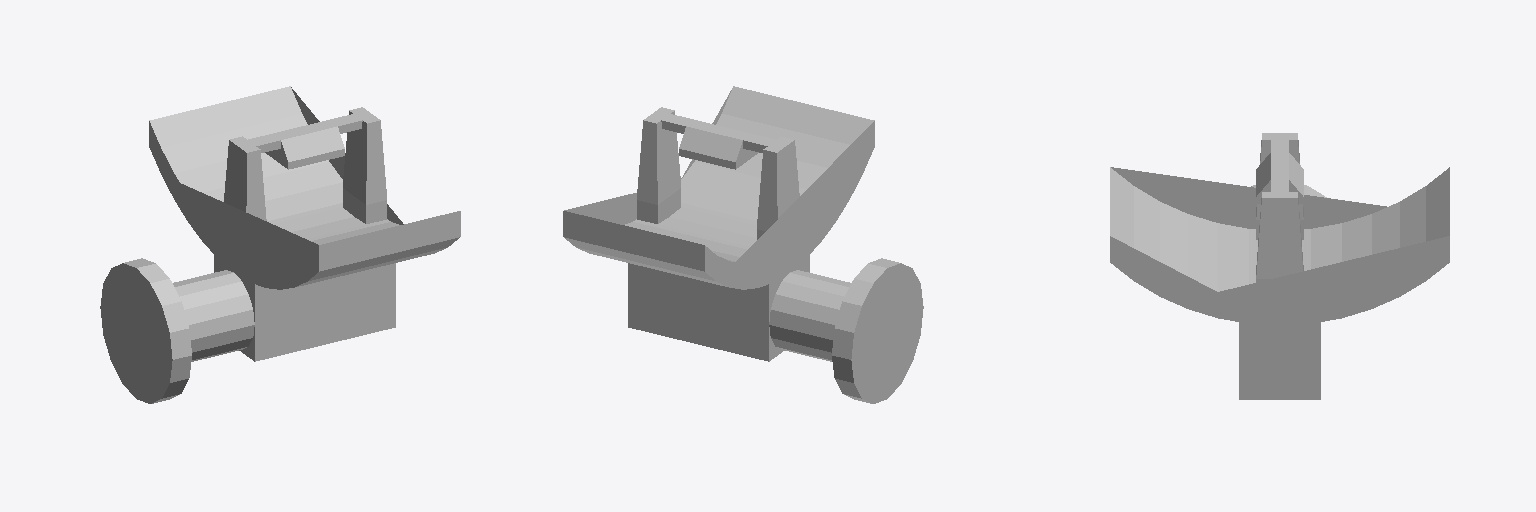
The model's file is tunguskaRarar.obj.
3 views of the same model, side by side, from view 1: azimuth 30°, elevation 25°; view 2: azimuth 150°, elevation 25°; view 3: azimuth 270°, elevation 25° (orthographic).
Parts seen in each view (by area): view 1: Mesh1 Group1 Model; view 2: Mesh1 Group1 Model; view 3: Mesh1 Group1 Model.
Part boxes in pixels (x1,y1,x2,y2): Mesh1 Group1 Model: (100, 86, 460, 403); Mesh1 Group1 Model: (563, 86, 923, 403); Mesh1 Group1 Model: (1110, 133, 1449, 399).
Size of the model in its own units: 667 by 608 by 823.